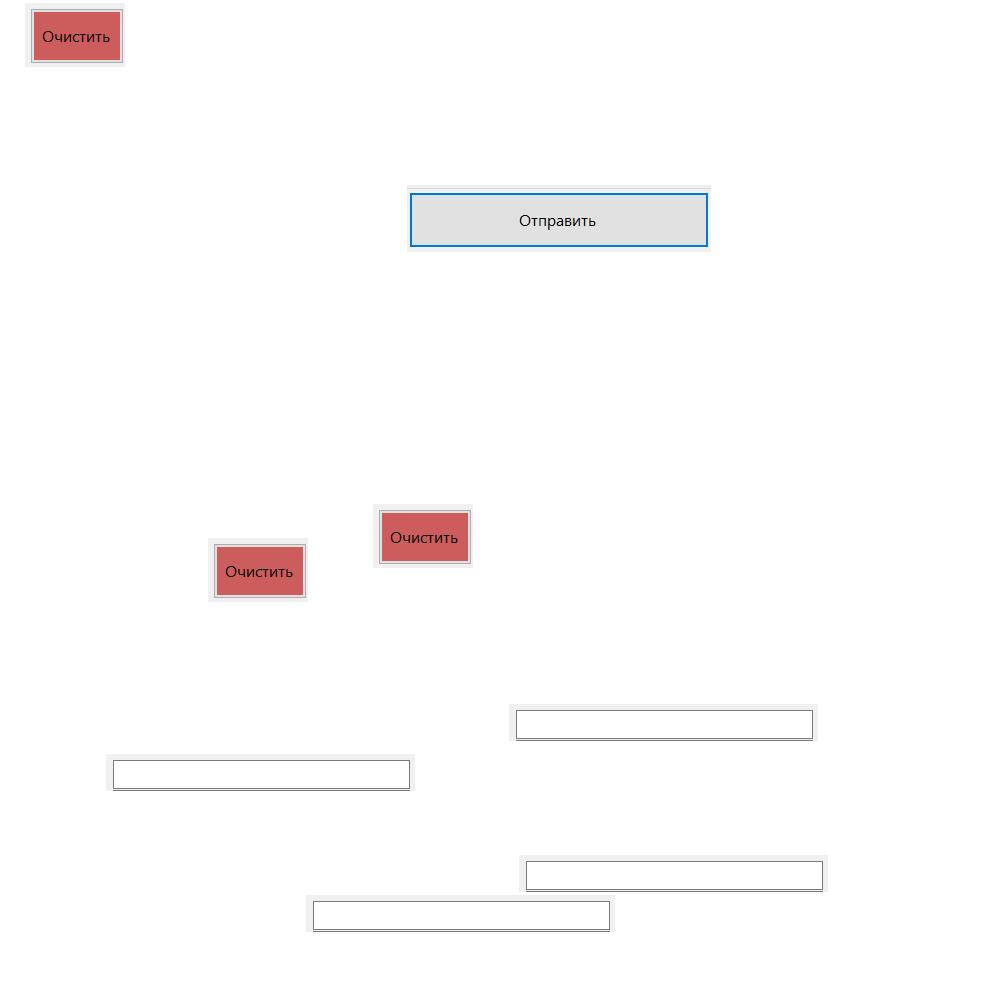Button: (407, 185, 711, 252), (373, 504, 473, 568), (25, 3, 125, 67), (208, 538, 308, 602)
EditText-: (519, 855, 828, 892), (106, 754, 415, 791), (509, 704, 818, 741), (306, 895, 615, 932)
